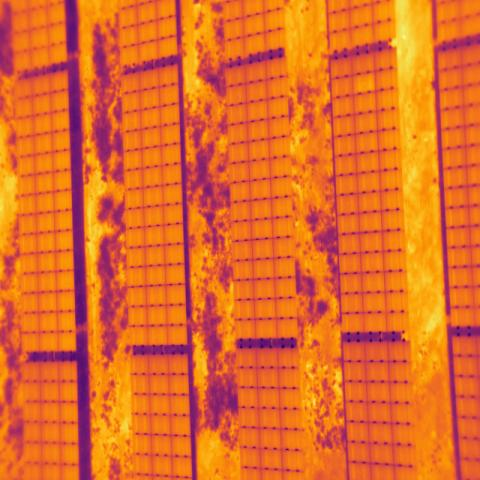fault: (352, 71, 375, 96)
